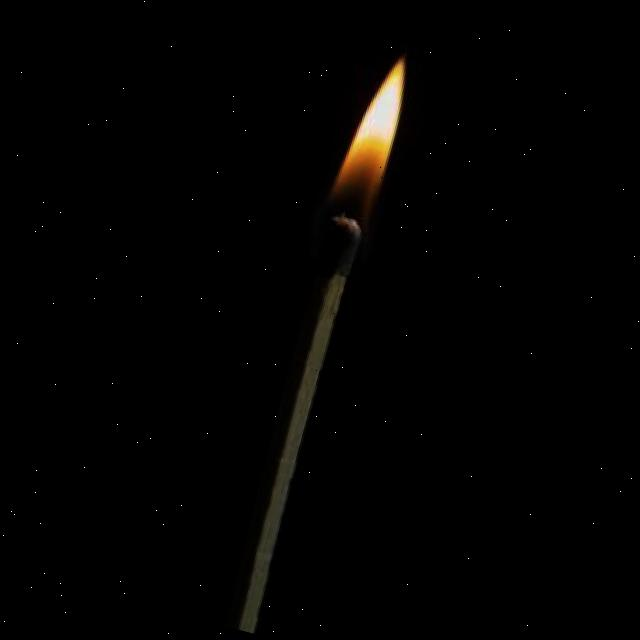fire: (314, 23, 436, 253)
